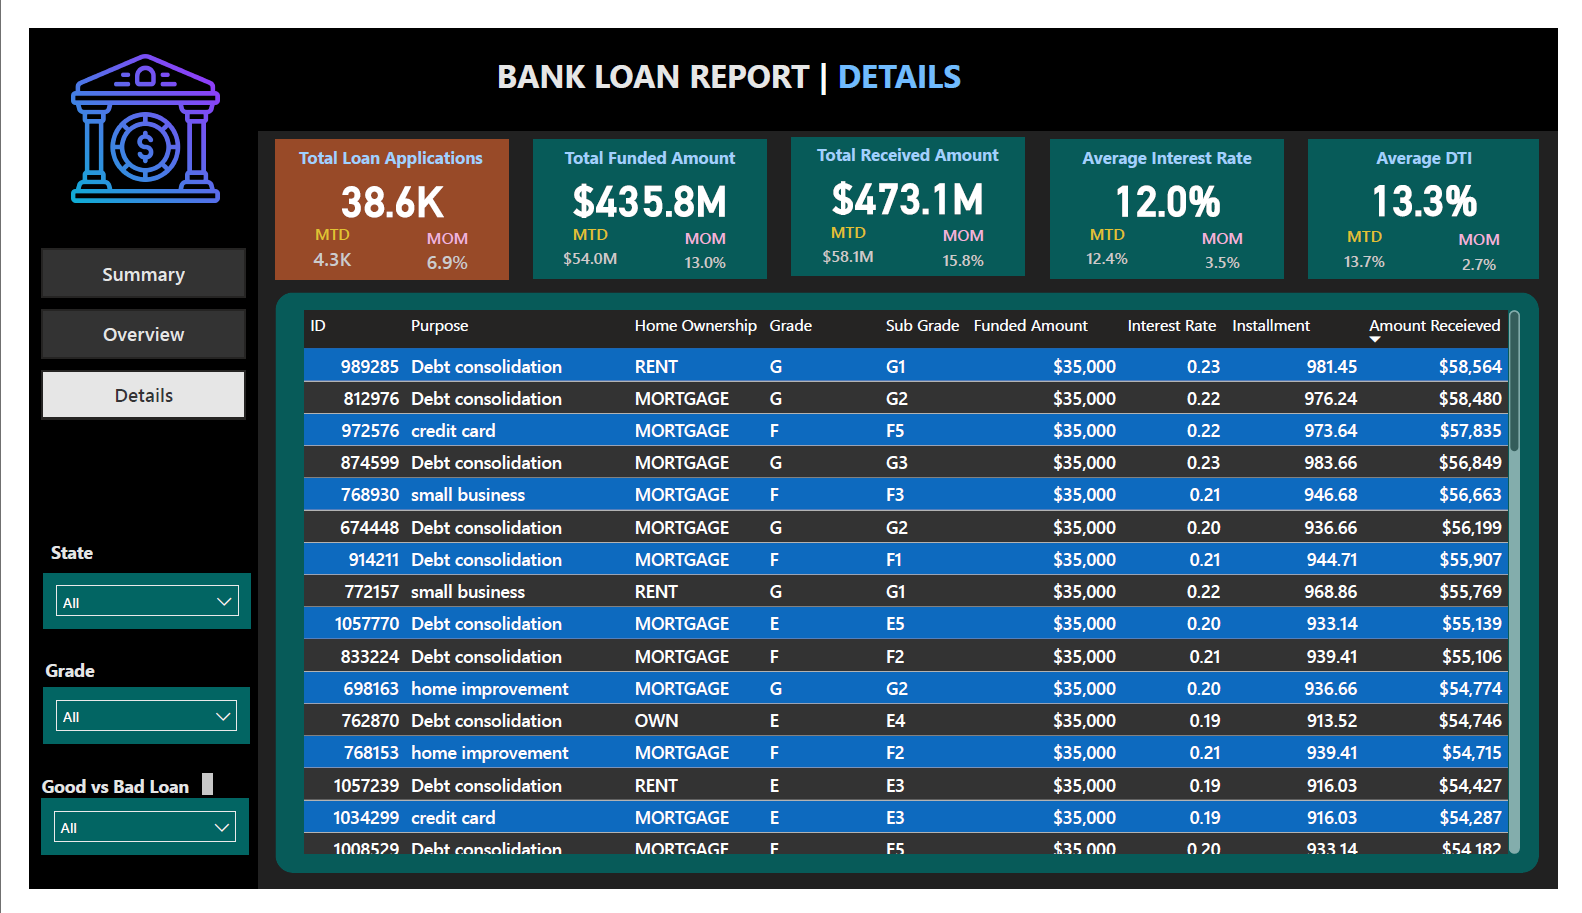

The dashboard page shown, as its layout file describes it:
{"tool":"powerbi","page":{"name":"Details","canvas":[1280,720],"ordinal":2},"visuals":[{"type":"shape","box":[0,70.7,191.4,649.1],"z":0},{"type":"shape","box":[638.4,91.4,194.5,116.4],"z":0,"group":"g3"},{"type":"shape","box":[422.1,92.8,194.5,116.4],"z":0,"group":"g2"},{"type":"shape","box":[854.7,92.8,194.5,116.4],"z":0,"group":"g4"},{"type":"shape","box":[205.8,93.1,194.5,116.4],"z":0,"group":"g1"},{"type":"shape","box":[1070.9,93.2,192.6,116],"z":0,"group":"g5"},{"type":"slicer","fields":{"Values":["financial_loan.address_state"]},"box":[12,455.7,172.6,46.6],"z":0,"group":"g6"},{"type":"slicer","fields":{"Values":["financial_loan.grade"]},"box":[11.6,552.3,172.6,46.6],"z":0,"group":"g7"},{"type":"slicer","fields":{"Values":["financial_loan.Good v Bad Loan"]},"box":[9.8,645.2,172.6,46.6],"z":0,"group":"g8"},{"type":"shape","box":[0,0,1280.6,85],"z":1000},{"type":"card","fields":{"Values":["financial_loan.Avg DTI"]},"box":[1070.9,117.7,193.2,47.9],"z":1000,"group":"g5"},{"type":"card","fields":{"Values":["financial_loan.Total Amount Receieved"]},"box":[638.4,118.8,194.5,42.5],"z":1000,"group":"g3"},{"type":"card","fields":{"Values":["financial_loan.Total Loan Amount"]},"box":[422.1,120.2,194.5,42.5],"z":1000,"group":"g2"},{"type":"card","fields":{"Values":["financial_loan.Average interest rate"]},"box":[854.7,120.2,194.5,42.5],"z":1000,"group":"g4"},{"type":"card","fields":{"Values":["financial_loan.Total Loan Applications"]},"box":[205.8,120.5,194.5,42.5],"z":1000,"group":"g1"},{"type":"textbox","box":[12.6,422.9,54.8,32.9],"z":1000,"group":"g6"},{"type":"textbox","box":[8.1,522.4,60.3,30.1],"z":1000,"group":"g7"},{"type":"textbox","box":[4.9,619,152.9,27.1],"z":1000,"group":"g8"},{"type":"textbox","box":[638.4,91.4,194.5,28.8],"z":2000,"group":"g3"},{"type":"textbox","box":[422.1,92.8,194.5,28.8],"z":2000,"group":"g2"},{"type":"textbox","box":[854.7,92.8,194.5,28.8],"z":2000,"group":"g4"},{"type":"textbox","box":[206,93,193.2,28.8],"z":2000,"group":"g1"},{"type":"textbox","box":[1070.9,93.6,194,33.9],"z":2000,"group":"g5"},{"type":"shape","box":[205.7,221.4,1058.6,485.7],"z":2000},{"type":"textbox","box":[386.3,16.4,506.8,52.1],"z":3000},{"type":"card","title":"MTD","fields":{"Values":["financial_loan.MTD amount receieved"]},"box":[656.2,161.3,58.9,45.2],"z":3000,"group":"g3"},{"type":"card","title":"MTD","fields":{"Values":["financial_loan.MTD funded amount"]},"box":[439.9,162.7,58.9,45.2],"z":3000,"group":"g2"},{"type":"card","title":"MTD","fields":{"Values":["financial_loan.MTD avg int rate"]},"box":[872.5,162.7,58.9,45.2],"z":3000,"group":"g4"},{"type":"card","title":"MTD","fields":{"Values":["financial_loan.MTD loan applications"]},"box":[223.6,163,58.9,45.2],"z":3000,"group":"g1"},{"type":"card","title":"MTD","fields":{"Values":["financial_loan.MTD AVG DTI"]},"box":[1088.5,164.9,58.3,41.9],"z":3000,"group":"g5"},{"type":"group","id":"g1","title":"Group 1","box":[205.8,93,194.5,116.6],"z":4000},{"type":"card","title":"MOM","fields":{"Values":["financial_loan.MOM amount receieved"]},"box":[758.9,164,46.6,43.8],"z":4000,"group":"g3"},{"type":"card","title":"MOM","fields":{"Values":["financial_loan.MOM Funded amount"]},"box":[542.6,165.4,46.6,43.8],"z":4000,"group":"g2"},{"type":"card","title":"MOM","fields":{"Values":["financial_loan.MOM avg int rate"]},"box":[975.2,165.4,46.6,43.8],"z":4000,"group":"g4"},{"type":"card","title":"MOM","fields":{"Values":["financial_loan.MOM loan applications"]},"box":[326.3,165.7,46.6,43.8],"z":4000,"group":"g1"},{"type":"card","title":"MOM","fields":{"Values":["financial_loan.MOM AVG DTI"]},"box":[1191,167.3,45.7,47.1],"z":4000,"group":"g5"},{"type":"group","id":"g2","title":"Group 1","box":[422.1,92.8,194.5,116.4],"z":5000},{"type":"group","id":"g3","title":"Group 1","box":[638.4,91.4,194.5,116.4],"z":6000},{"type":"group","id":"g4","title":"Group 1","box":[854.7,92.8,194.5,116.4],"z":7000},{"type":"group","id":"g5","title":"Group 1","box":[1070.9,93.2,194,121.2],"z":8000},{"type":"group","id":"g6","title":"Group 2","box":[12,422.9,172.6,79.4],"z":9000},{"type":"group","id":"g7","title":"Group 2","box":[8.1,522.4,176.1,76.5],"z":10000},{"type":"group","id":"g8","title":"Group 2","box":[4.9,619,177.5,72.8],"z":11000},{"type":"tableEx","fields":{"Values":["financial_loan.id","financial_loan.purpose","financial_loan.home_ownership","financial_loan.grade","financial_loan.sub_grade","financial_loan.Total Funded Amount","Sum(financial_loan.int_rate)","Sum(financial_loan.installment)","financial_loan.Total Amount Receieved"]},"box":[224.3,231.4,1028.6,464.3],"z":12000},{"type":"pageNavigator","box":[10,184.3,171.4,142.9],"z":13000},{"type":"image","box":[30,17.1,134.3,134.3],"z":14000}]}

Visuals, with their boxes in screenshot pixels (x1, y1, x2, y2), scaled from the page's 1280x720 canvas onto the 1582x913 screenshot:
shape: bbox=(0, 90, 237, 912)
shape: bbox=(789, 116, 1029, 264)
shape: bbox=(522, 118, 762, 265)
shape: bbox=(1056, 118, 1297, 265)
shape: bbox=(254, 118, 495, 266)
shape: bbox=(1324, 118, 1562, 265)
slicer - financial_loan.address_state: bbox=(15, 578, 228, 637)
slicer - financial_loan.grade: bbox=(14, 700, 228, 759)
slicer - financial_loan.Good v Bad Loan: bbox=(12, 818, 225, 877)
shape: bbox=(0, 0, 1581, 108)
card - financial_loan.Avg DTI: bbox=(1324, 149, 1562, 210)
card - financial_loan.Total Amount Receieved: bbox=(789, 151, 1029, 205)
card - financial_loan.Total Loan Amount: bbox=(522, 152, 762, 206)
card - financial_loan.Average interest rate: bbox=(1056, 152, 1297, 206)
card - financial_loan.Total Loan Applications: bbox=(254, 153, 495, 207)
textbox: bbox=(16, 536, 83, 578)
textbox: bbox=(10, 662, 85, 701)
textbox: bbox=(6, 785, 195, 819)
textbox: bbox=(789, 116, 1029, 152)
textbox: bbox=(522, 118, 762, 154)
textbox: bbox=(1056, 118, 1297, 154)
textbox: bbox=(255, 118, 493, 154)
textbox: bbox=(1324, 119, 1563, 162)
shape: bbox=(254, 281, 1563, 897)
textbox: bbox=(477, 21, 1104, 87)
"MTD" card: bbox=(811, 205, 884, 262)
"MTD" card: bbox=(544, 206, 616, 264)
"MTD" card: bbox=(1078, 206, 1151, 264)
"MTD" card: bbox=(276, 207, 349, 264)
"MTD" card: bbox=(1345, 209, 1417, 262)
"Group 1" group: bbox=(254, 118, 495, 266)
"MOM" card: bbox=(938, 208, 996, 264)
"MOM" card: bbox=(671, 210, 728, 265)
"MOM" card: bbox=(1205, 210, 1263, 265)
"MOM" card: bbox=(403, 210, 461, 266)
"MOM" card: bbox=(1472, 212, 1528, 272)
"Group 1" group: bbox=(522, 118, 762, 265)
"Group 1" group: bbox=(789, 116, 1029, 264)
"Group 1" group: bbox=(1056, 118, 1297, 265)
"Group 1" group: bbox=(1324, 118, 1563, 272)
"Group 2" group: bbox=(15, 536, 228, 637)
"Group 2" group: bbox=(10, 662, 228, 759)
"Group 2" group: bbox=(6, 785, 225, 877)
tableEx - financial_loan.id x financial_loan.purpose: bbox=(277, 293, 1549, 882)
pageNavigator: bbox=(12, 234, 224, 415)
image: bbox=(37, 22, 203, 192)
